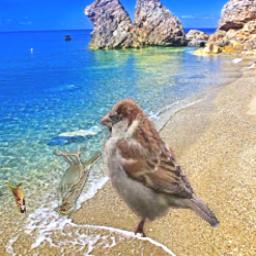Sparrow: (102, 99, 221, 238), (54, 146, 102, 216), (7, 182, 27, 213)
